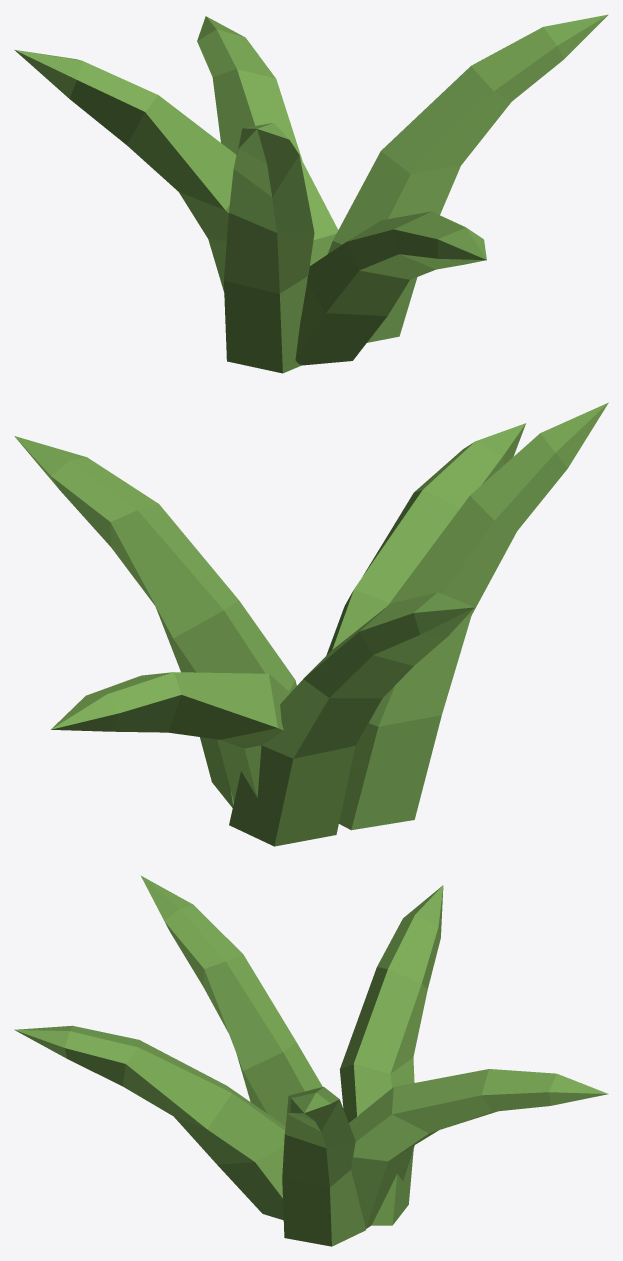
The model's file is Grass.fbx.
The picture shows the model from 3 angles, top to bottom: view 1: azimuth 30°, elevation 25°; view 2: azimuth 150°, elevation 25°; view 3: azimuth 270°, elevation 25°; orthographic projection. The views are drawn at different scales.
Visible parts, largest first — view 1: pCylinder7; view 2: pCylinder7; view 3: pCylinder7.
Boxes of the visible parts, x1,y1,x2,y2 form: pCylinder7: (14,14,608,373); pCylinder7: (14,402,608,846); pCylinder7: (14,876,608,1246).
Bounding box in the file's own units: 6.18 × 3.79 × 7.56.
